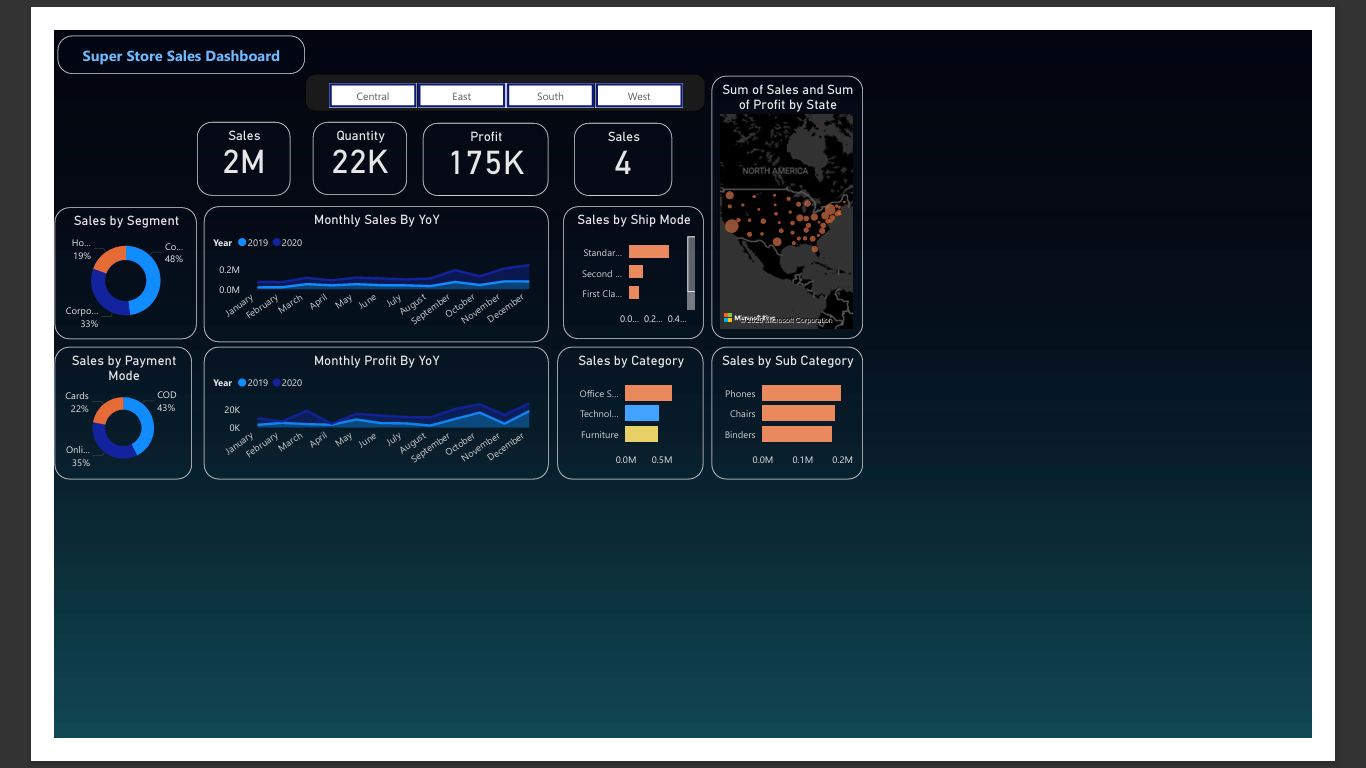

What the dashboard file says about the page in this screenshot:
{"tool":"powerbi","page":{"name":"Page 1","canvas":[1280,720],"ordinal":0},"visuals":[{"type":"clusteredBarChart","title":"Sales by Category","fields":{"Category":["SuperStore_Sales_Dataset.Category"],"Y":["Sum(SuperStore_Sales_Dataset.Sales)"]},"box":[640,402.5,186.2,168.8],"z":0},{"type":"clusteredBarChart","title":"Sales by Sub Category","fields":{"Category":["SuperStore_Sales_Dataset.Sub-Category"],"Y":["Sum(SuperStore_Sales_Dataset.Sales)"]},"box":[836.2,402.5,192.5,168.8],"z":1000},{"type":"clusteredBarChart","title":"Sales by Ship Mode","fields":{"Category":["SuperStore_Sales_Dataset.Ship Mode"],"Y":["Sum(SuperStore_Sales_Dataset.Sales)"]},"box":[647.5,223.8,178.8,168.8],"z":2000},{"type":"stackedAreaChart","title":"Monthly Sales By YoY","fields":{"Y":["Sum(SuperStore_Sales_Dataset.Sales)"],"Category":["SuperStore_Sales_Dataset.Order Date.Variation.Date Hierarchy.Month","SuperStore_Sales_Dataset.Order Date.Variation.Date Hierarchy.Day"],"Series":["SuperStore_Sales_Dataset.Order Date.Variation.Date Hierarchy.Year"]},"box":[190,223.8,438.8,172.5],"z":3000},{"type":"stackedAreaChart","title":"Monthly Profit By YoY","fields":{"Category":["SuperStore_Sales_Dataset.Order Date.Variation.Date Hierarchy.Month","SuperStore_Sales_Dataset.Order Date.Variation.Date Hierarchy.Day"],"Series":["SuperStore_Sales_Dataset.Order Date.Variation.Date Hierarchy.Year"],"Y":["Sum(SuperStore_Sales_Dataset.Profit)"]},"box":[190,402.5,438.8,168.8],"z":4000},{"type":"map","fields":{"Category":["SuperStore_Sales_Dataset.State"],"Size":["Sum(SuperStore_Sales_Dataset.Sales)"]},"box":[836.2,57.5,192.5,335],"z":5000},{"type":"donutChart","title":" Sales by Segment","fields":{"Category":["SuperStore_Sales_Dataset.Segment"],"Y":["Sum(SuperStore_Sales_Dataset.Sales)"]},"box":[0,225,181.2,167.5],"z":6000},{"type":"donutChart","title":"Sales by Payment Mode","fields":{"Category":["SuperStore_Sales_Dataset.Payment Mode"],"Y":["Sum(SuperStore_Sales_Dataset.Sales)"]},"box":[0,402.5,175,168.8],"z":7000},{"type":"slicer","fields":{"Values":["SuperStore_Sales_Dataset.Region"]},"box":[318.8,55,510,47.5],"z":8000},{"type":"textbox","box":[3.8,6.2,315,48.8],"z":9000},{"type":"card","title":"Sales","fields":{"Values":["Sum(SuperStore_Sales_Dataset.Sales)"]},"box":[181.2,116.2,118.8,93.8],"z":10000},{"type":"card","title":"Quantity","fields":{"Values":["Sum(SuperStore_Sales_Dataset.Quantity)"]},"box":[326.2,117.5,120,92.5],"z":11000},{"type":"card","title":"Profit","fields":{"Values":["Sum(SuperStore_Sales_Dataset.Profit)"]},"box":[468.8,117.5,160,92.5],"z":12000},{"type":"card","title":"Sales","fields":{"Values":["Avg(SuperStore_Sales_Dataset.AvgDelivery)"]},"box":[661.2,117.5,125,92.5],"z":13000}]}

Visuals, with their boxes in screenshot pixels (x1, y1, x2, y2), scaled from the page's 1280x720 canvas onto the 1366x768 screenshot:
"Sales by Category" clusteredBarChart: detection(683, 429, 882, 609)
"Sales by Sub Category" clusteredBarChart: detection(892, 429, 1098, 609)
"Sales by Ship Mode" clusteredBarChart: detection(691, 239, 882, 419)
"Monthly Sales By YoY" stackedAreaChart: detection(203, 239, 671, 423)
"Monthly Profit By YoY" stackedAreaChart: detection(203, 429, 671, 609)
map - SuperStore_Sales_Dataset.State x Sum(SuperStore_Sales_Dataset.Sales): detection(892, 61, 1098, 419)
" Sales by Segment" donutChart: detection(0, 240, 193, 419)
"Sales by Payment Mode" donutChart: detection(0, 429, 187, 609)
slicer - SuperStore_Sales_Dataset.Region: detection(340, 59, 884, 109)
textbox: detection(4, 7, 340, 59)
"Sales" card: detection(193, 124, 320, 224)
"Quantity" card: detection(348, 125, 476, 224)
"Profit" card: detection(500, 125, 671, 224)
"Sales" card: detection(706, 125, 839, 224)
